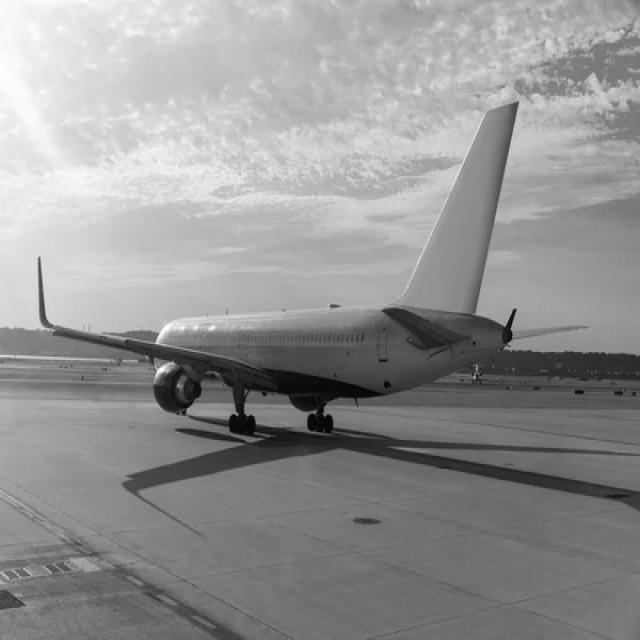Aircraft: (30, 91, 588, 446)
